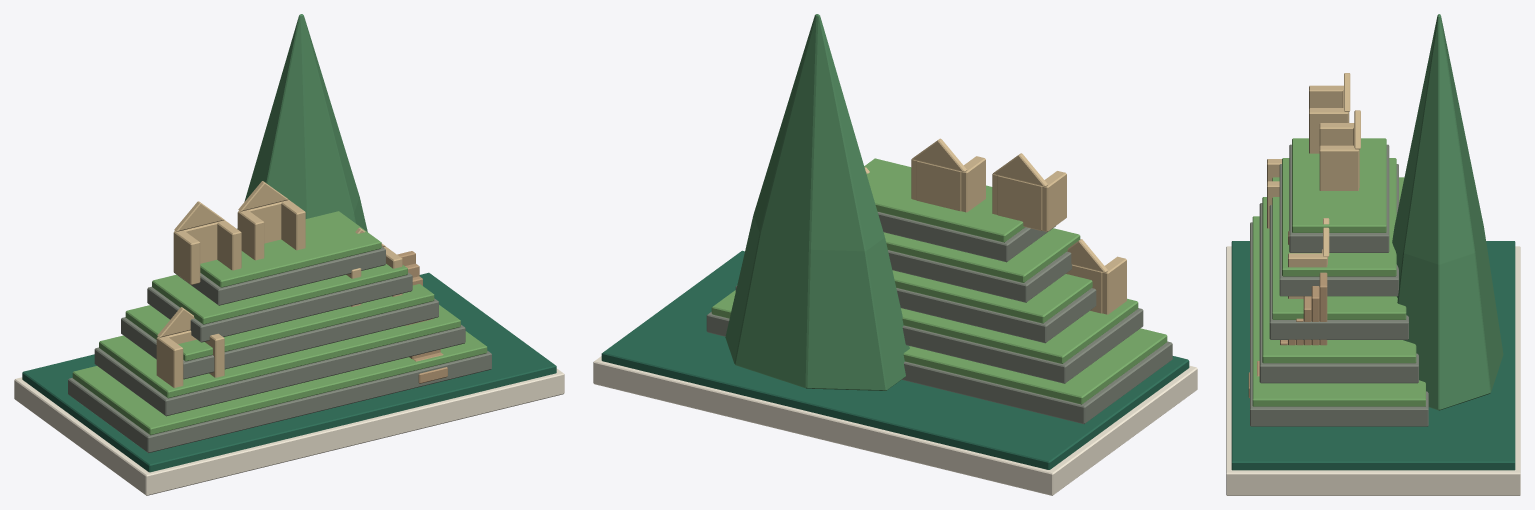
The model's file is machu-picchu.glb.
3 renders of one model, left to right at view 1: azimuth 30°, elevation 25°; view 2: azimuth 150°, elevation 25°; view 3: azimuth 270°, elevation 25°, orthographic. The views are drawn at different scales.
Visible parts, largest first — view 1: Machu Picchu; view 2: Machu Picchu; view 3: Machu Picchu.
Part boxes in pixels (left/top/right/bottom): Machu Picchu: left=14, top=14, right=564, bottom=495; Machu Picchu: left=593, top=14, right=1197, bottom=495; Machu Picchu: left=1226, top=14, right=1520, bottom=495.
Size of the model in its own units: 1.47 by 1.18 by 0.8064.
